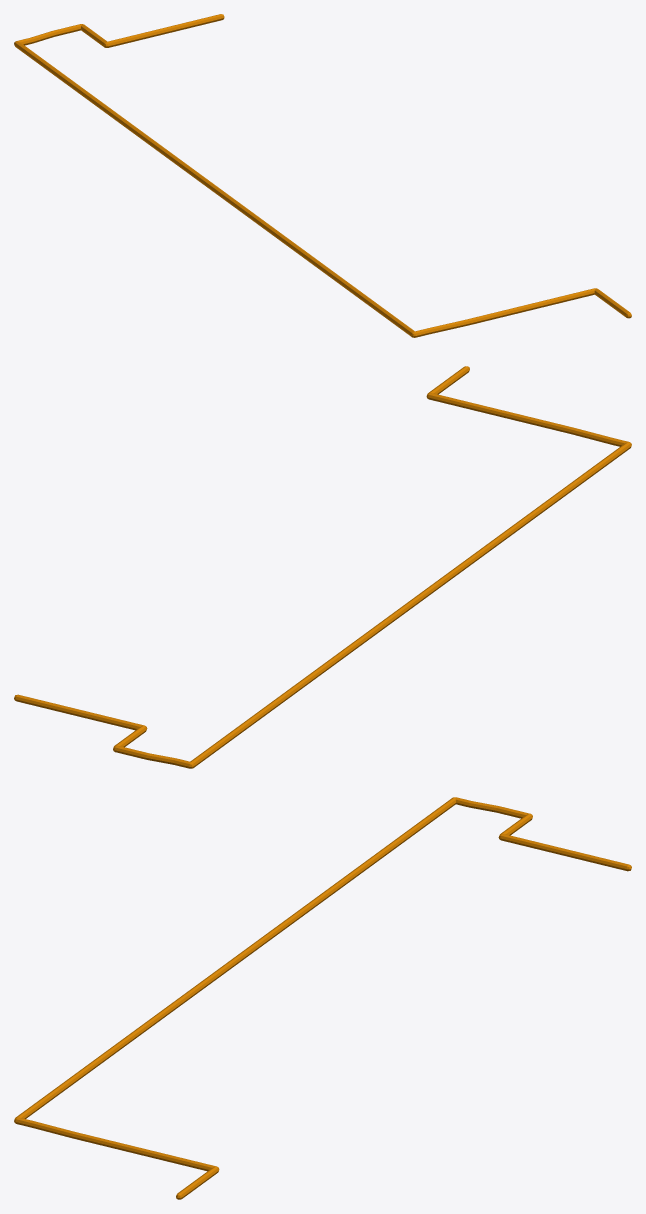
3 views of the same model, one above another, from view 1: azimuth 30°, elevation 25°; view 2: azimuth 150°, elevation 25°; view 3: azimuth 330°, elevation 25° (orthographic). The views are drawn at different scales.
Size of the model in its own units: 651 by 20 by 2633.
